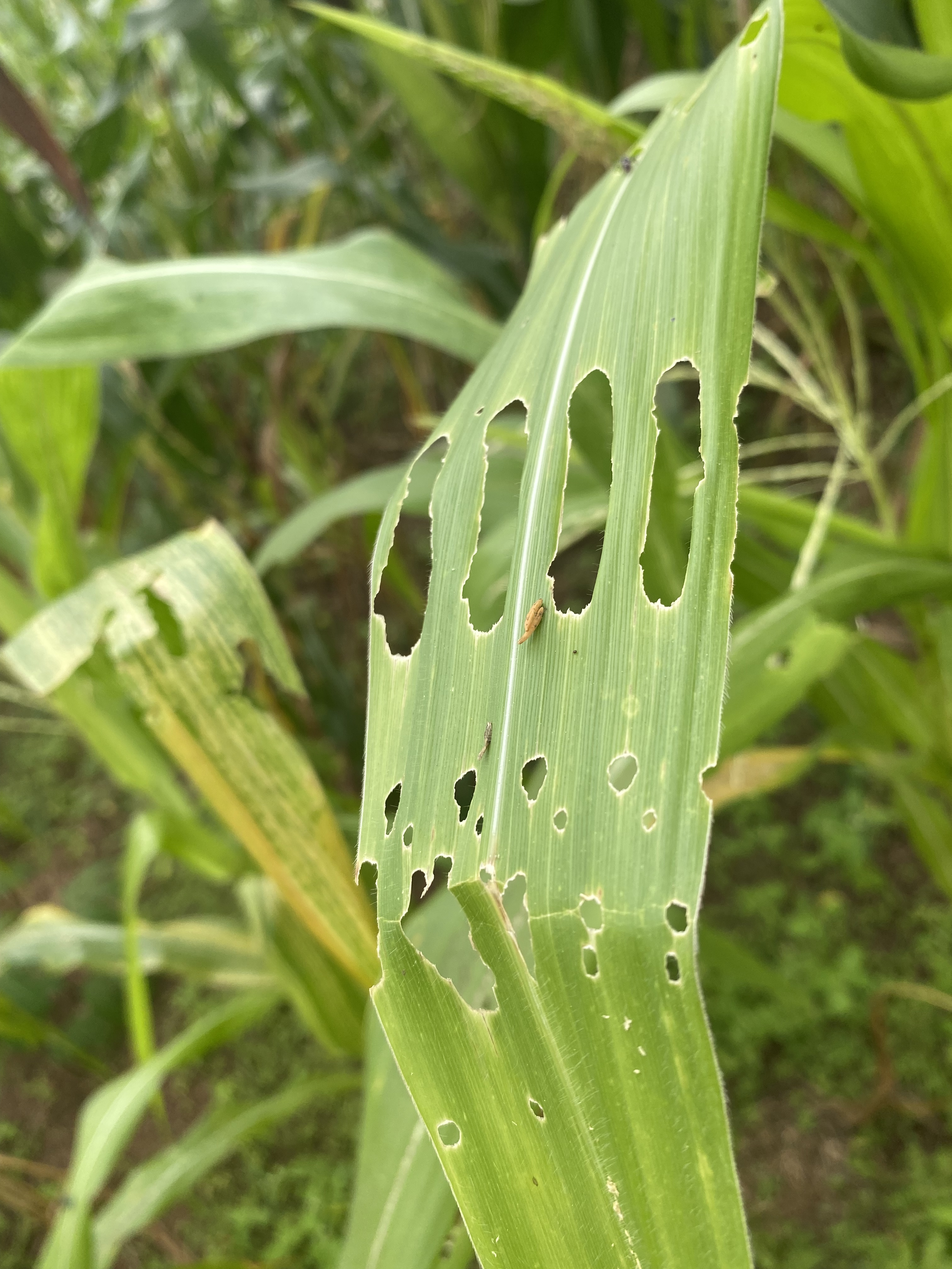severe: (351, 303, 759, 691), (340, 739, 748, 1053), (25, 572, 229, 759), (620, 0, 782, 161), (413, 1085, 575, 1164)
